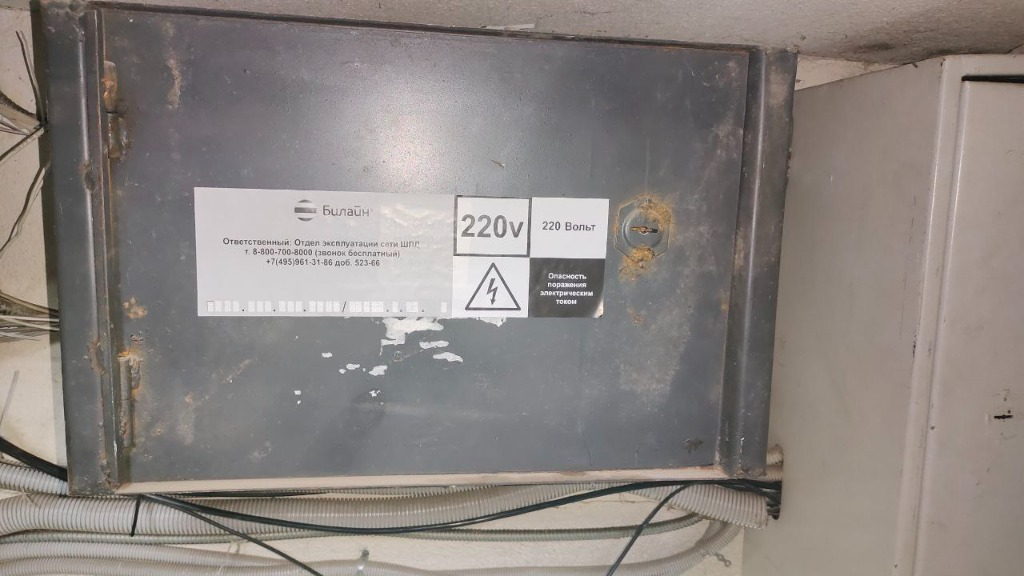e2-6u: (26, 1, 809, 505)
